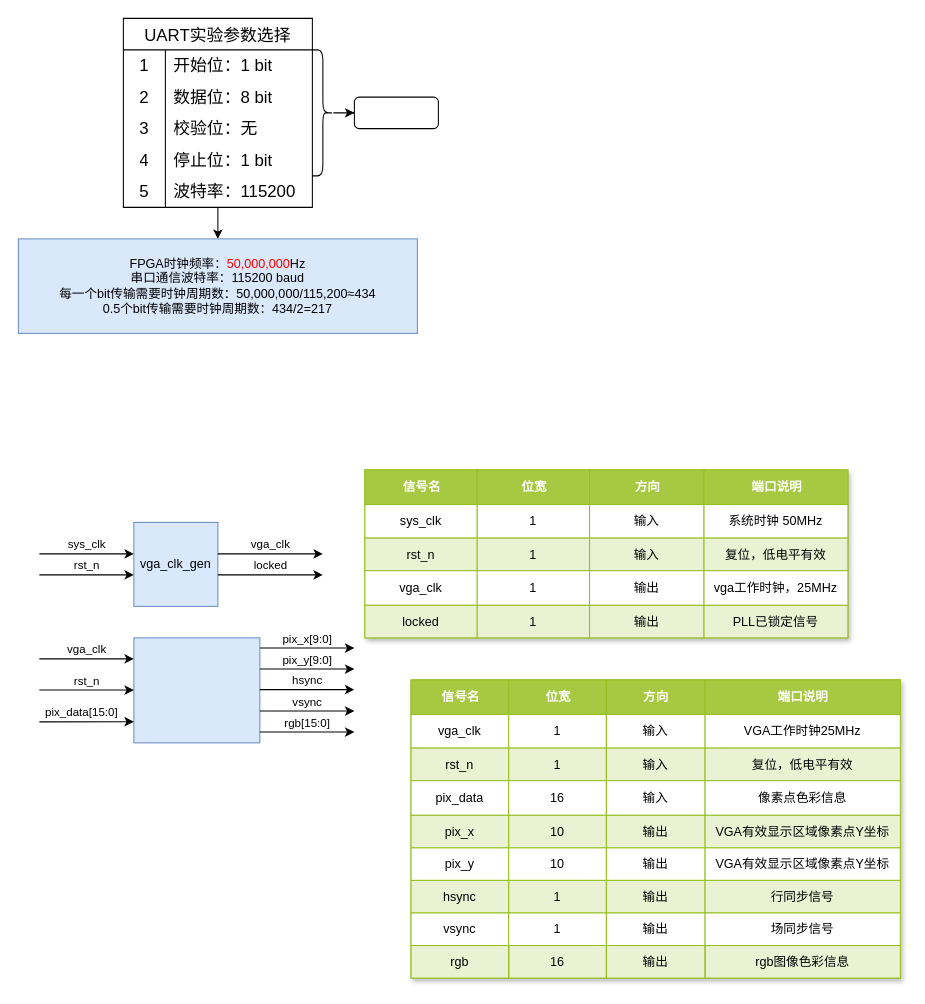
Image size: 925x1004. Some labels were removed from this diagram. Here are the shapes that lost their labels. From the top down, the centre of each, then its label:
At (395,112): "10个bit".
At (196,690): "vga_timing_ctrl".
